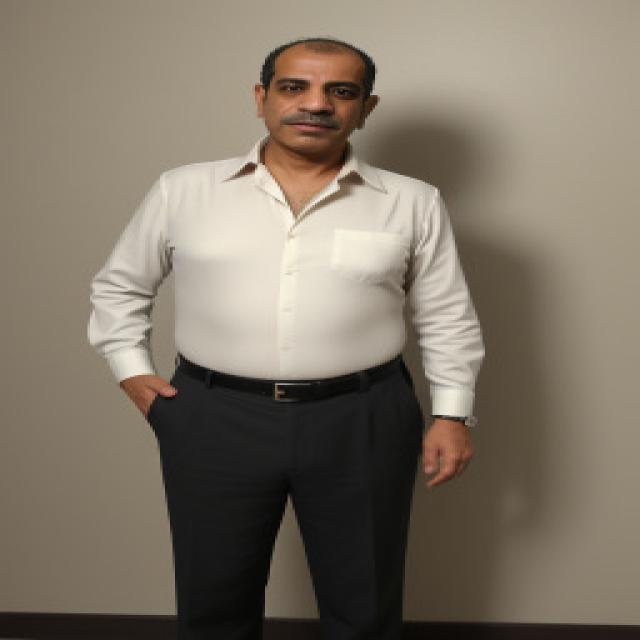Ai human 2: (73, 27, 534, 640)
